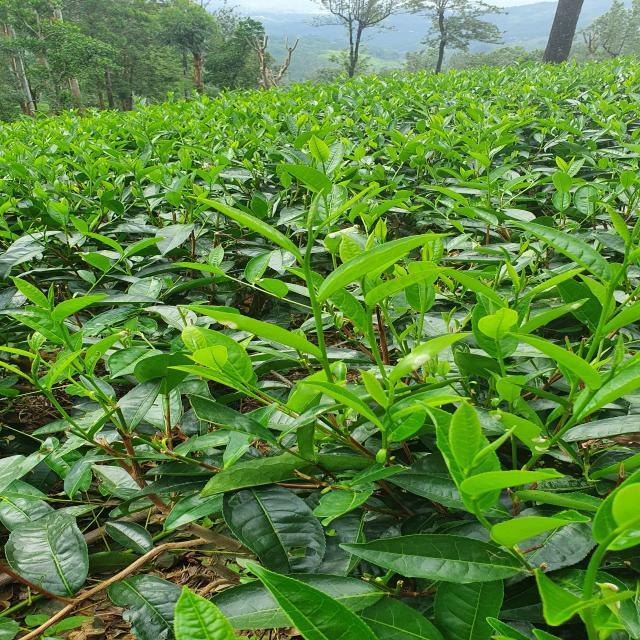Stem: (473, 498, 481, 510), (302, 259, 310, 269), (367, 309, 373, 315), (623, 264, 628, 268), (59, 323, 64, 327)
